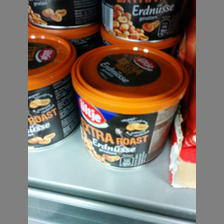nuts: (70, 43, 190, 170), (28, 31, 80, 149)
